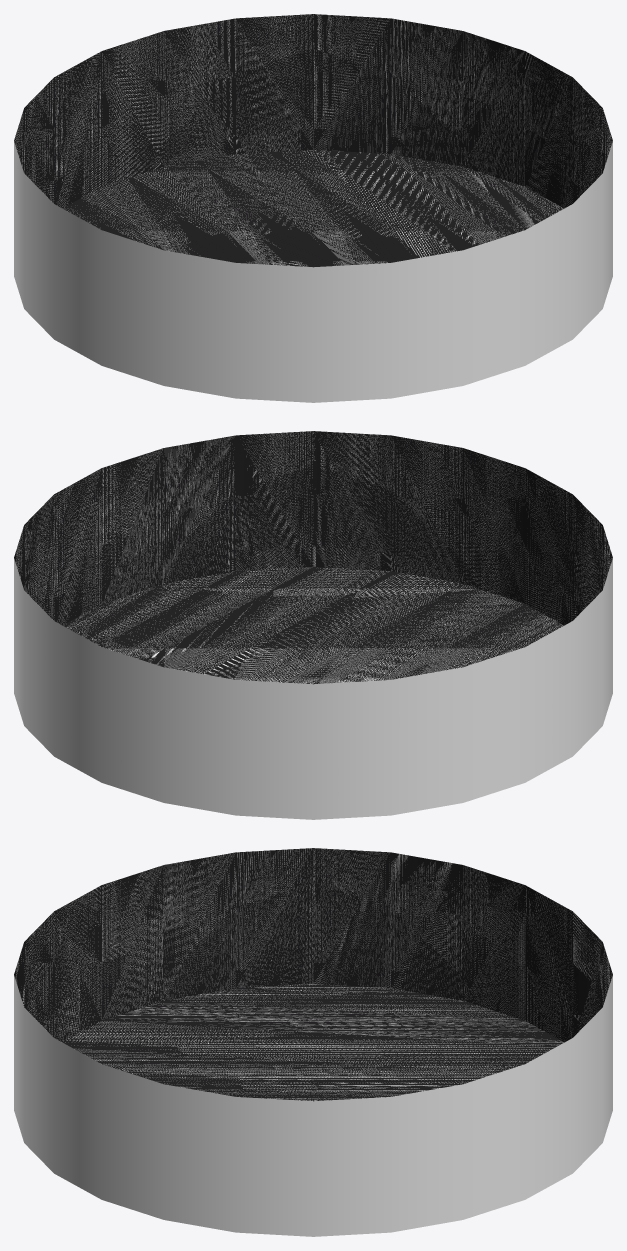
Rendered from original-27.obj.
3 views of the same model, one above another, from view 1: azimuth 30°, elevation 25°; view 2: azimuth 150°, elevation 25°; view 3: azimuth 270°, elevation 25° (orthographic).
Visible parts, largest first — view 1: 3dw.b296fbfbbe5dccf09c12d6260da9ac2b/Model/mesh1/mesh1-geometry/; view 2: 3dw.b296fbfbbe5dccf09c12d6260da9ac2b/Model/mesh1/mesh1-geometry/; view 3: 3dw.b296fbfbbe5dccf09c12d6260da9ac2b/Model/mesh1/mesh1-geometry/.
Boxes of the visible parts, x1,y1,x2,y2 form: 3dw.b296fbfbbe5dccf09c12d6260da9ac2b/Model/mesh1/mesh1-geometry/: (14, 14, 612, 402); 3dw.b296fbfbbe5dccf09c12d6260da9ac2b/Model/mesh1/mesh1-geometry/: (14, 431, 612, 819); 3dw.b296fbfbbe5dccf09c12d6260da9ac2b/Model/mesh1/mesh1-geometry/: (14, 848, 612, 1236).
Bounding box in the file's own units: 0.0713 × 0.0178 × 0.0713.
